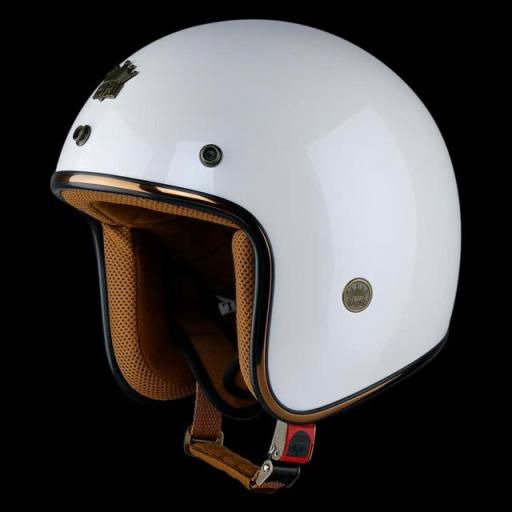with helmet: (44, 13, 470, 494)
